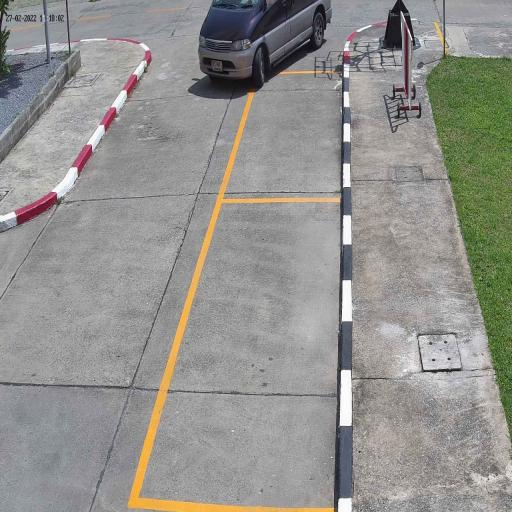car: (198, 0, 332, 87)
